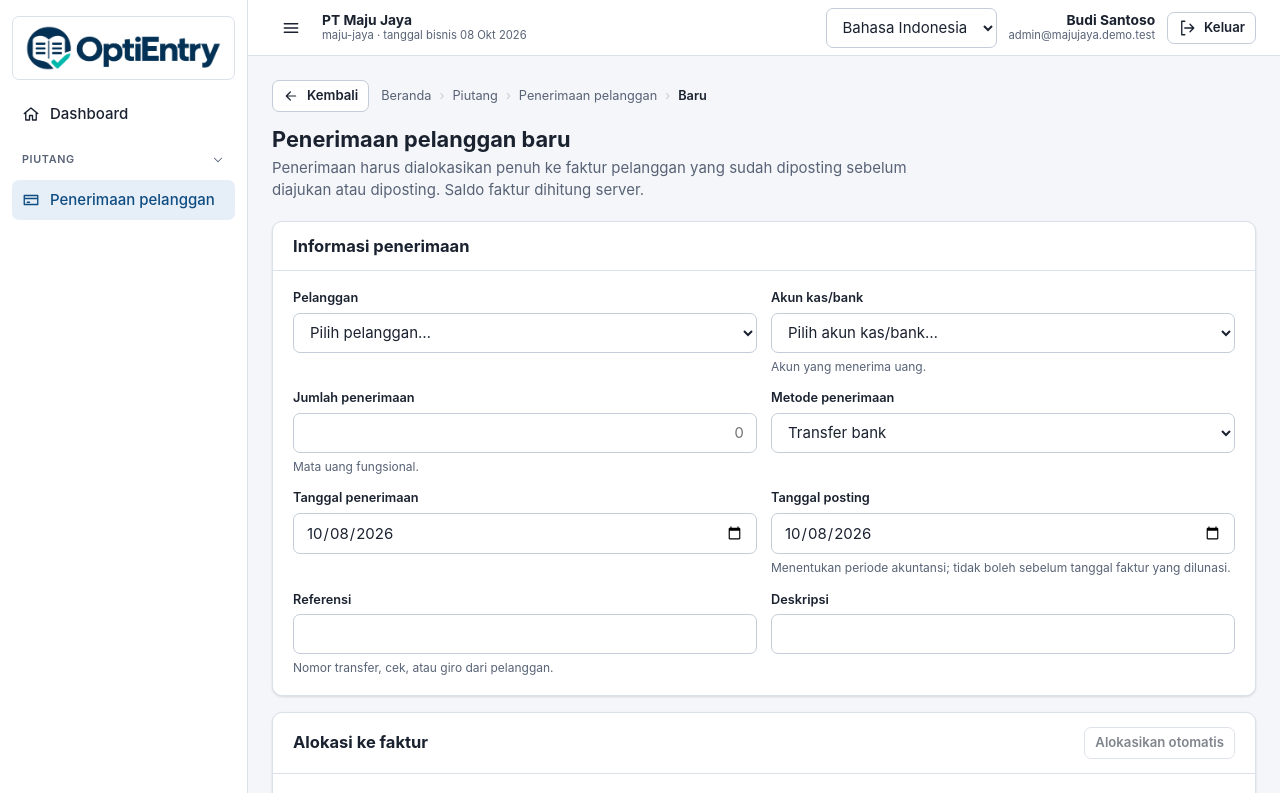
it: customer receipt editor › warns when an allocation is larger than the invoice balance, without sending anything
Expected: the heading "Penerimaan pelanggan baru" is shown, [272,126,570,152]
Step 1. Select "C1 · PT Pelanggan Setia" in the dropdown labelled "Pelanggan" → (525, 333), box [293,313,757,353]
(page scrolled)
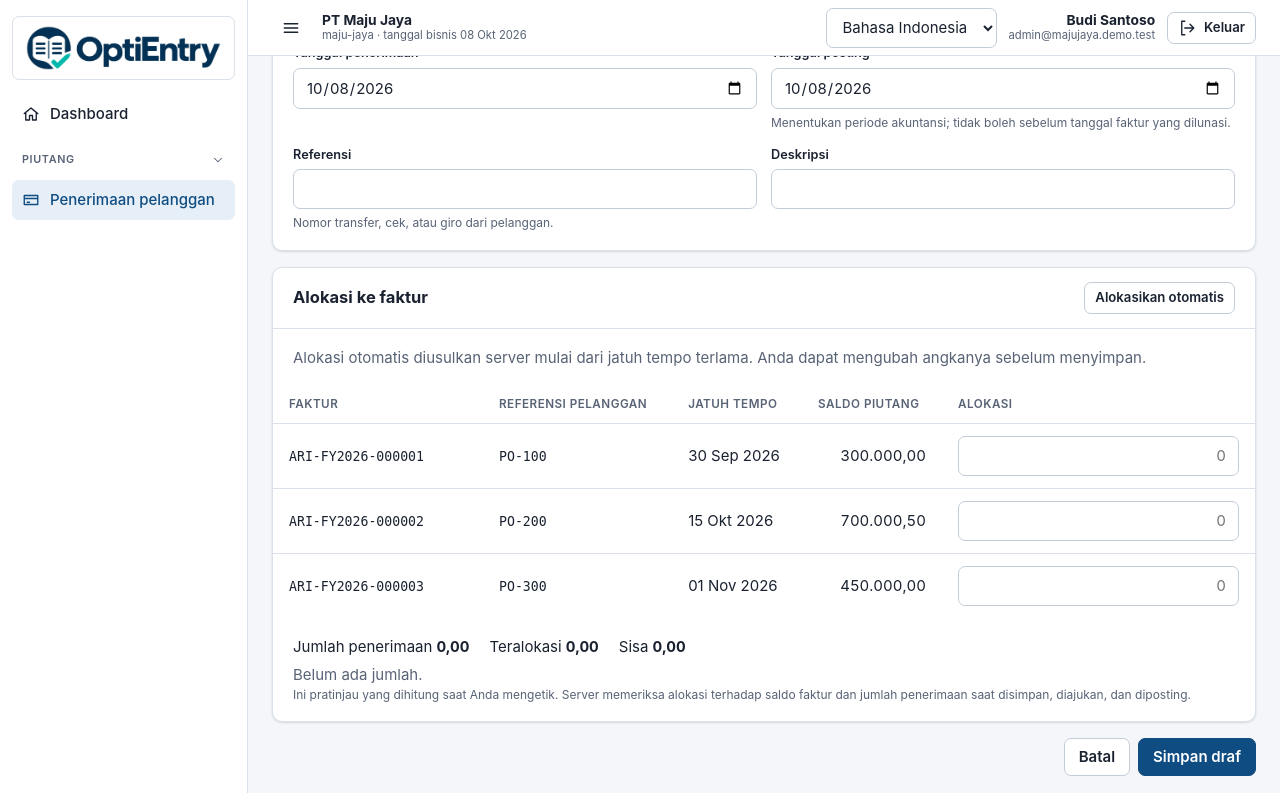
Expected: the field named "Alokasi ARI-FY2026-000001" is shown
Step 2. Type "300000,01" into the field named "Alokasi ARI-FY2026-000001" → (1098, 456), box [958,436,1239,476]
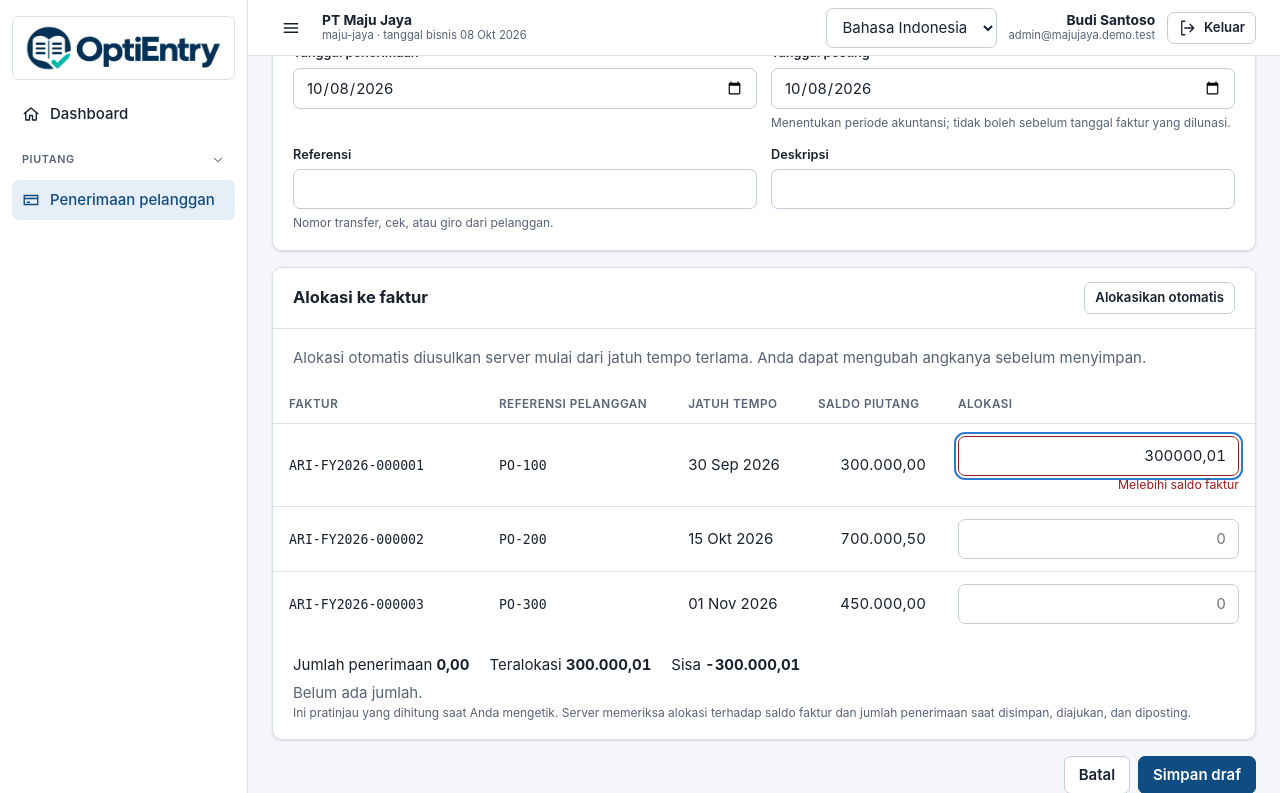
Expected: the text "Melebihi saldo faktur" is shown, [1118,477,1239,492]
